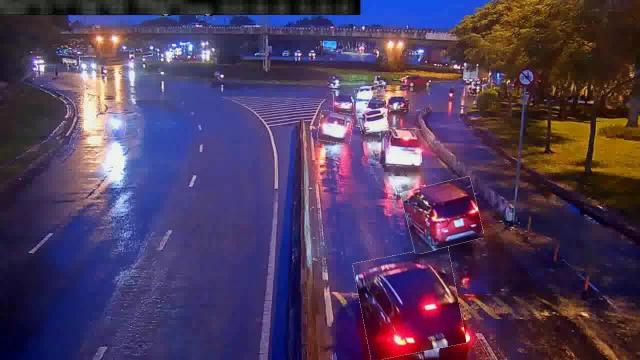Bike: (104, 112, 126, 138)
Car: (358, 250, 462, 356), (403, 180, 481, 250), (380, 128, 422, 166), (318, 112, 354, 144), (358, 109, 388, 133), (333, 94, 352, 114), (356, 86, 384, 96), (386, 96, 406, 109)
